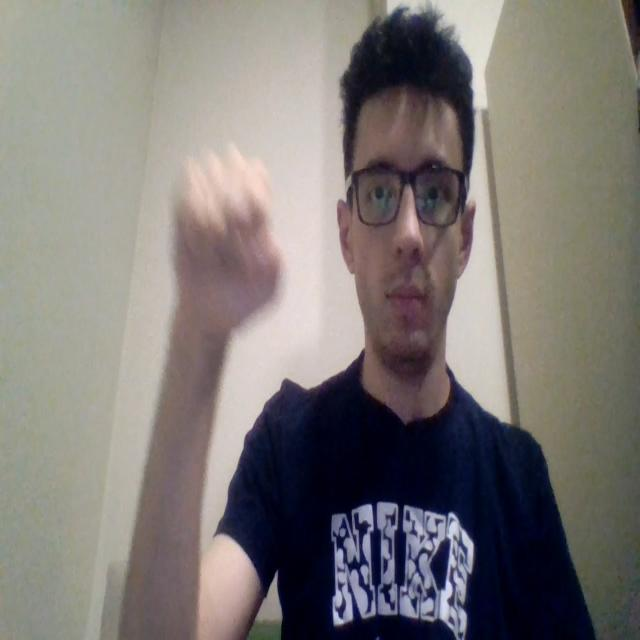yes: (171, 140, 283, 338)
